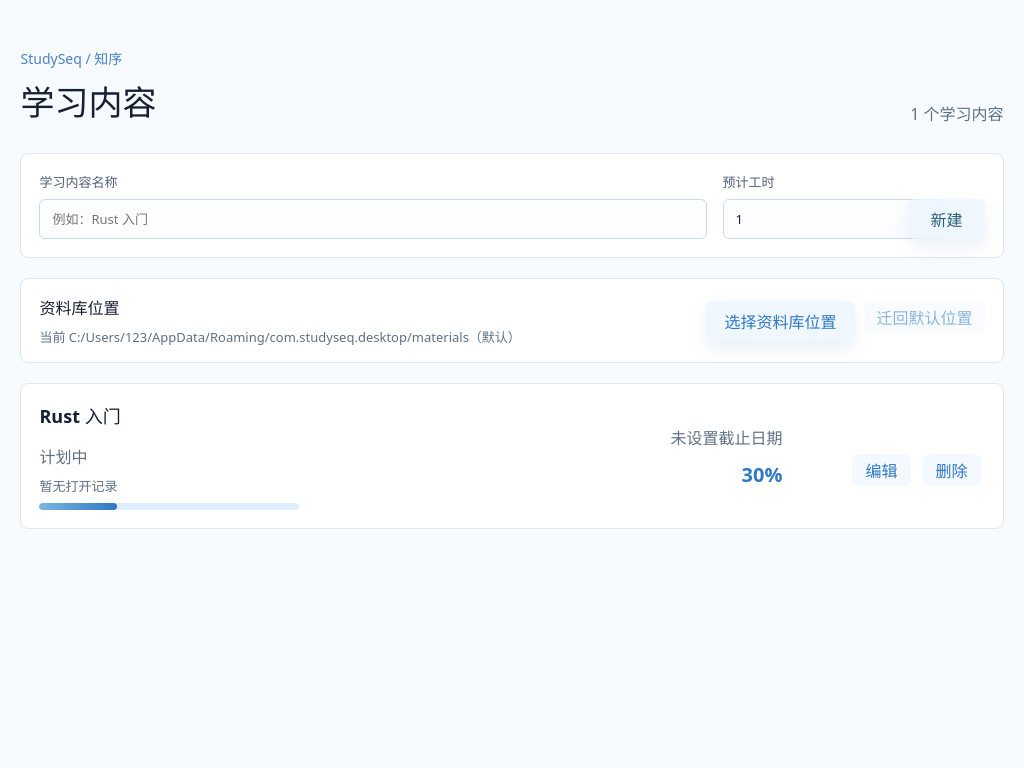
Test: HomePage › warns when a deleted learning content leaves managed copies behind
Check: the heading "Rust 入门" is shown, box [40,404,121,428]
Click the button with aria-label "删除 Rust 入门" at point(952, 470), box [922,454,980,486]
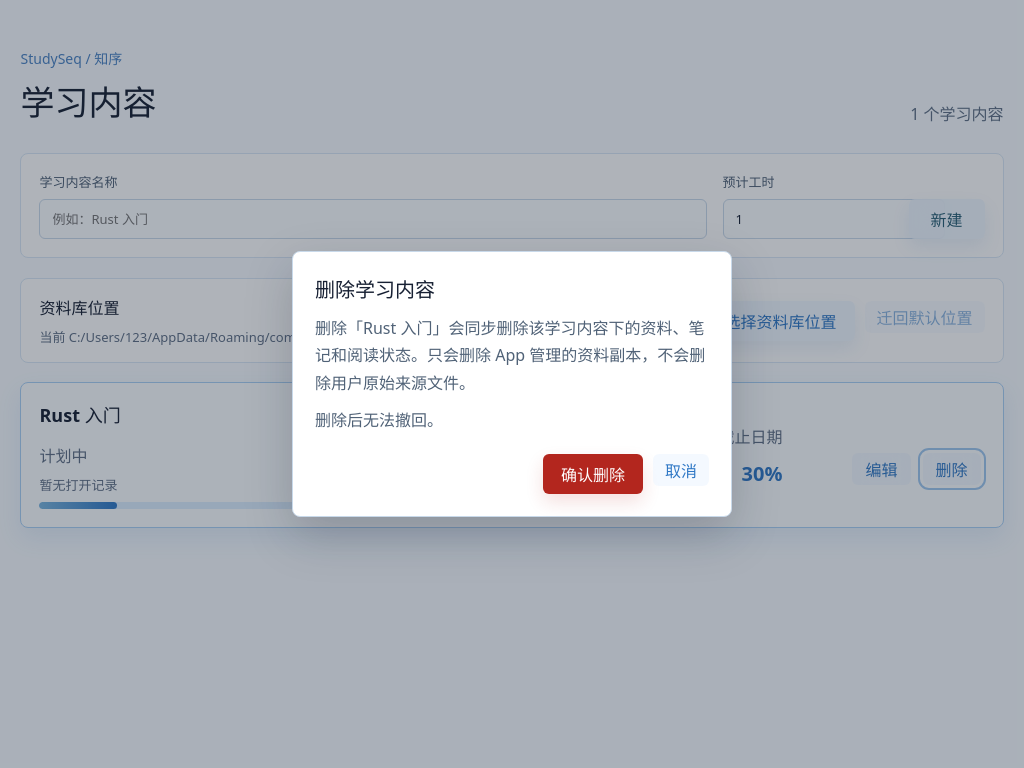
Click the button "确认删除" at point(593, 474), box [543,454,643,494]
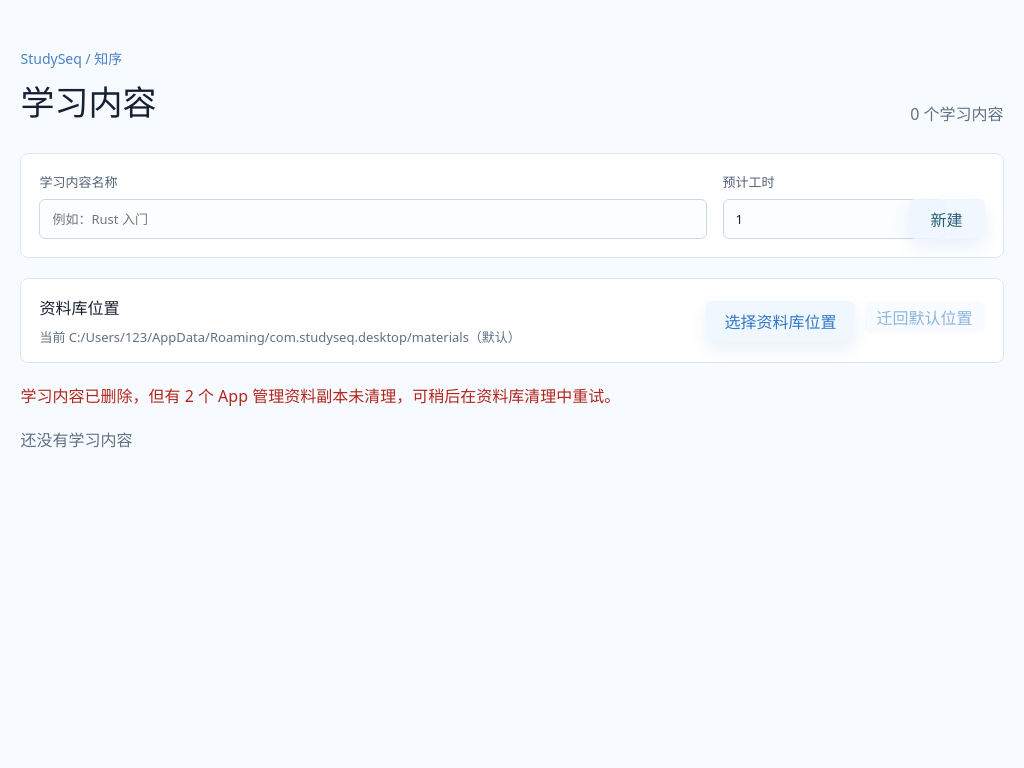
Check: the text "学习内容已删除，但有 2 个 App 管理资料副本未清理，可稍后在资料库清理中重试。" is shown, box [20,385,620,407]
